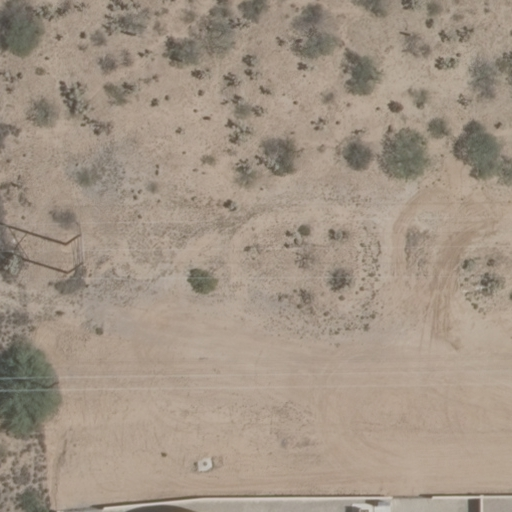DT: (61, 219, 90, 279), (37, 374, 65, 396)
